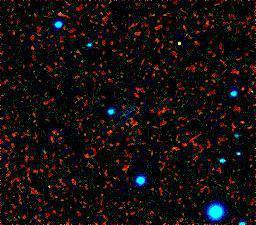star: (166, 27, 196, 57)
